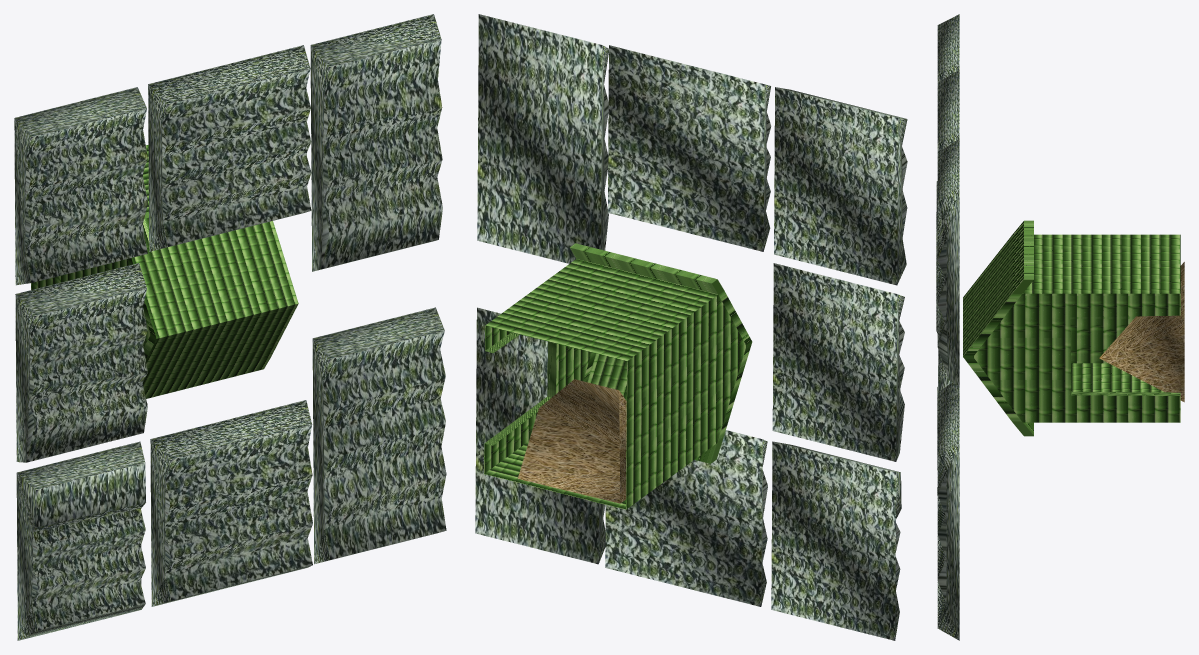
Rendered from farm_000051.obj.
The picture shows the model from 3 angles, left to right: view 1: azimuth 30°, elevation 25°; view 2: azimuth 150°, elevation 25°; view 3: azimuth 270°, elevation 25°; orthographic projection. The views are drawn at different scales.
Visible parts, largest first — view 1: crops.000_Cube.040, roof.000_Cube.042, wall.000_Cube.043; view 2: crops.000_Cube.040, wall.000_Cube.043, hay.000_Cone.010, roof.000_Cube.042, front.000_Cube.041; view 3: front.000_Cube.041, crops.000_Cube.040, wall.000_Cube.043, roof.000_Cube.042, hay.000_Cone.010.
Part boxes in pixels (<box>): crops.000_Cube.040: <box>14,14,446,640</box>; roof.000_Cube.042: <box>127,212,298,398</box>; wall.000_Cube.043: <box>31,144,150,347</box>; crops.000_Cube.040: <box>475,14,907,640</box>; wall.000_Cube.043: <box>484,259,746,509</box>; hay.000_Cone.010: <box>517,379,626,503</box>; roof.000_Cube.042: <box>570,243,752,463</box>; front.000_Cube.041: <box>484,325,591,473</box>; front.000_Cube.041: <box>973,293,1180,422</box>; crops.000_Cube.040: <box>936,14,959,640</box>; wall.000_Cube.043: <box>1023,234,1180,392</box>; roof.000_Cube.042: <box>963,220,1033,436</box>; hay.000_Cone.010: <box>1099,262,1184,402</box>.
Bounding box in the file's own units: 8.41 × 10 × 4.94.
